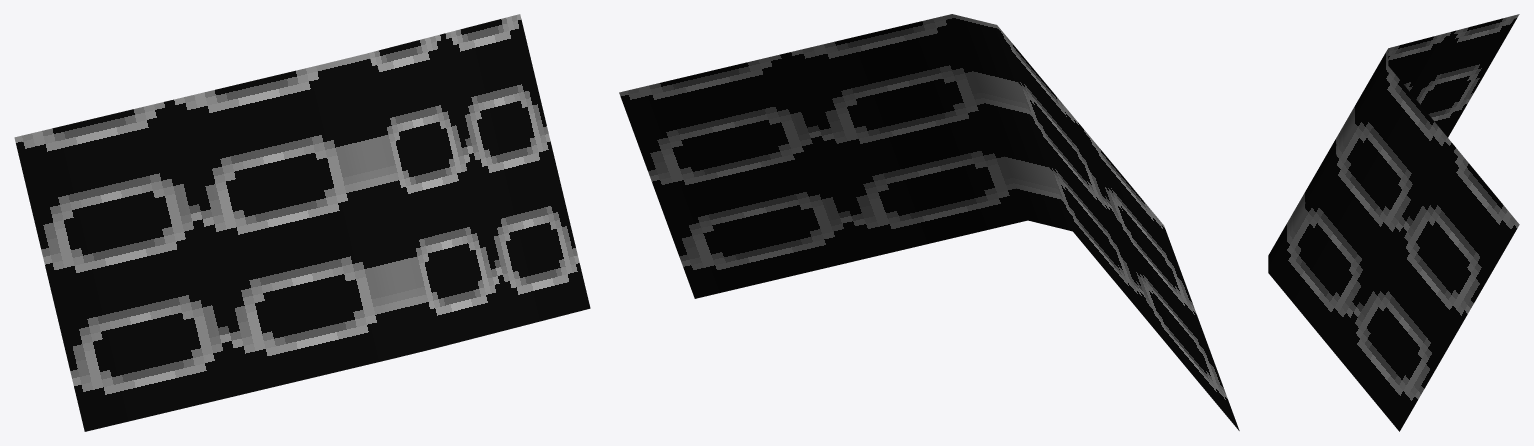
The model's file is 5787head109_c.gltf.
3 renders of one model, left to right at view 1: azimuth 30°, elevation 25°; view 2: azimuth 150°, elevation 25°; view 3: azimuth 270°, elevation 25°, orthographic. The views are drawn at different scales.
Parts seen in each view (by area): view 1: 5787head109_c; view 2: 5787head109_c; view 3: 5787head109_c.
Boxes of the visible parts, x1=… form: 5787head109_c: x1=14, y1=14, x2=590, y2=431; 5787head109_c: x1=619, y1=14, x2=1239, y2=430; 5787head109_c: x1=1268, y1=14, x2=1519, y2=431.
Size of the model in its own units: 0.6523 by 0.3896 by 0.3291.
1 material, 1 textured.
